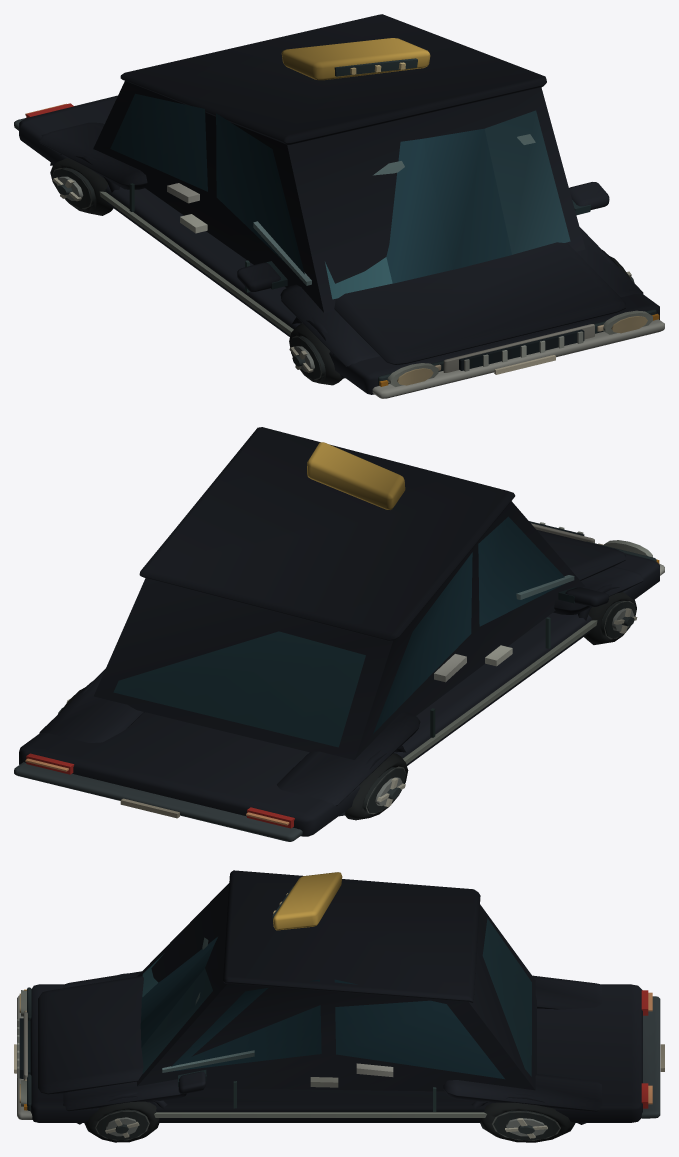
The model's file is blackcab.glb.
The picture shows the model from 3 angles, top to bottom: view 1: azimuth 30°, elevation 25°; view 2: azimuth 150°, elevation 25°; view 3: azimuth 270°, elevation 25°; orthographic projection. The views are drawn at different scales.
Parts seen in each view (by area): view 1: blackcab_body; view 2: blackcab_body; view 3: blackcab_body.
Part boxes in pixels (x1,y1,x2,y2): blackcab_body: [14, 14, 664, 398]; blackcab_body: [14, 427, 664, 841]; blackcab_body: [14, 870, 664, 1142].
Size of the model in its own units: 2.3 by 1.31 by 4.14.
